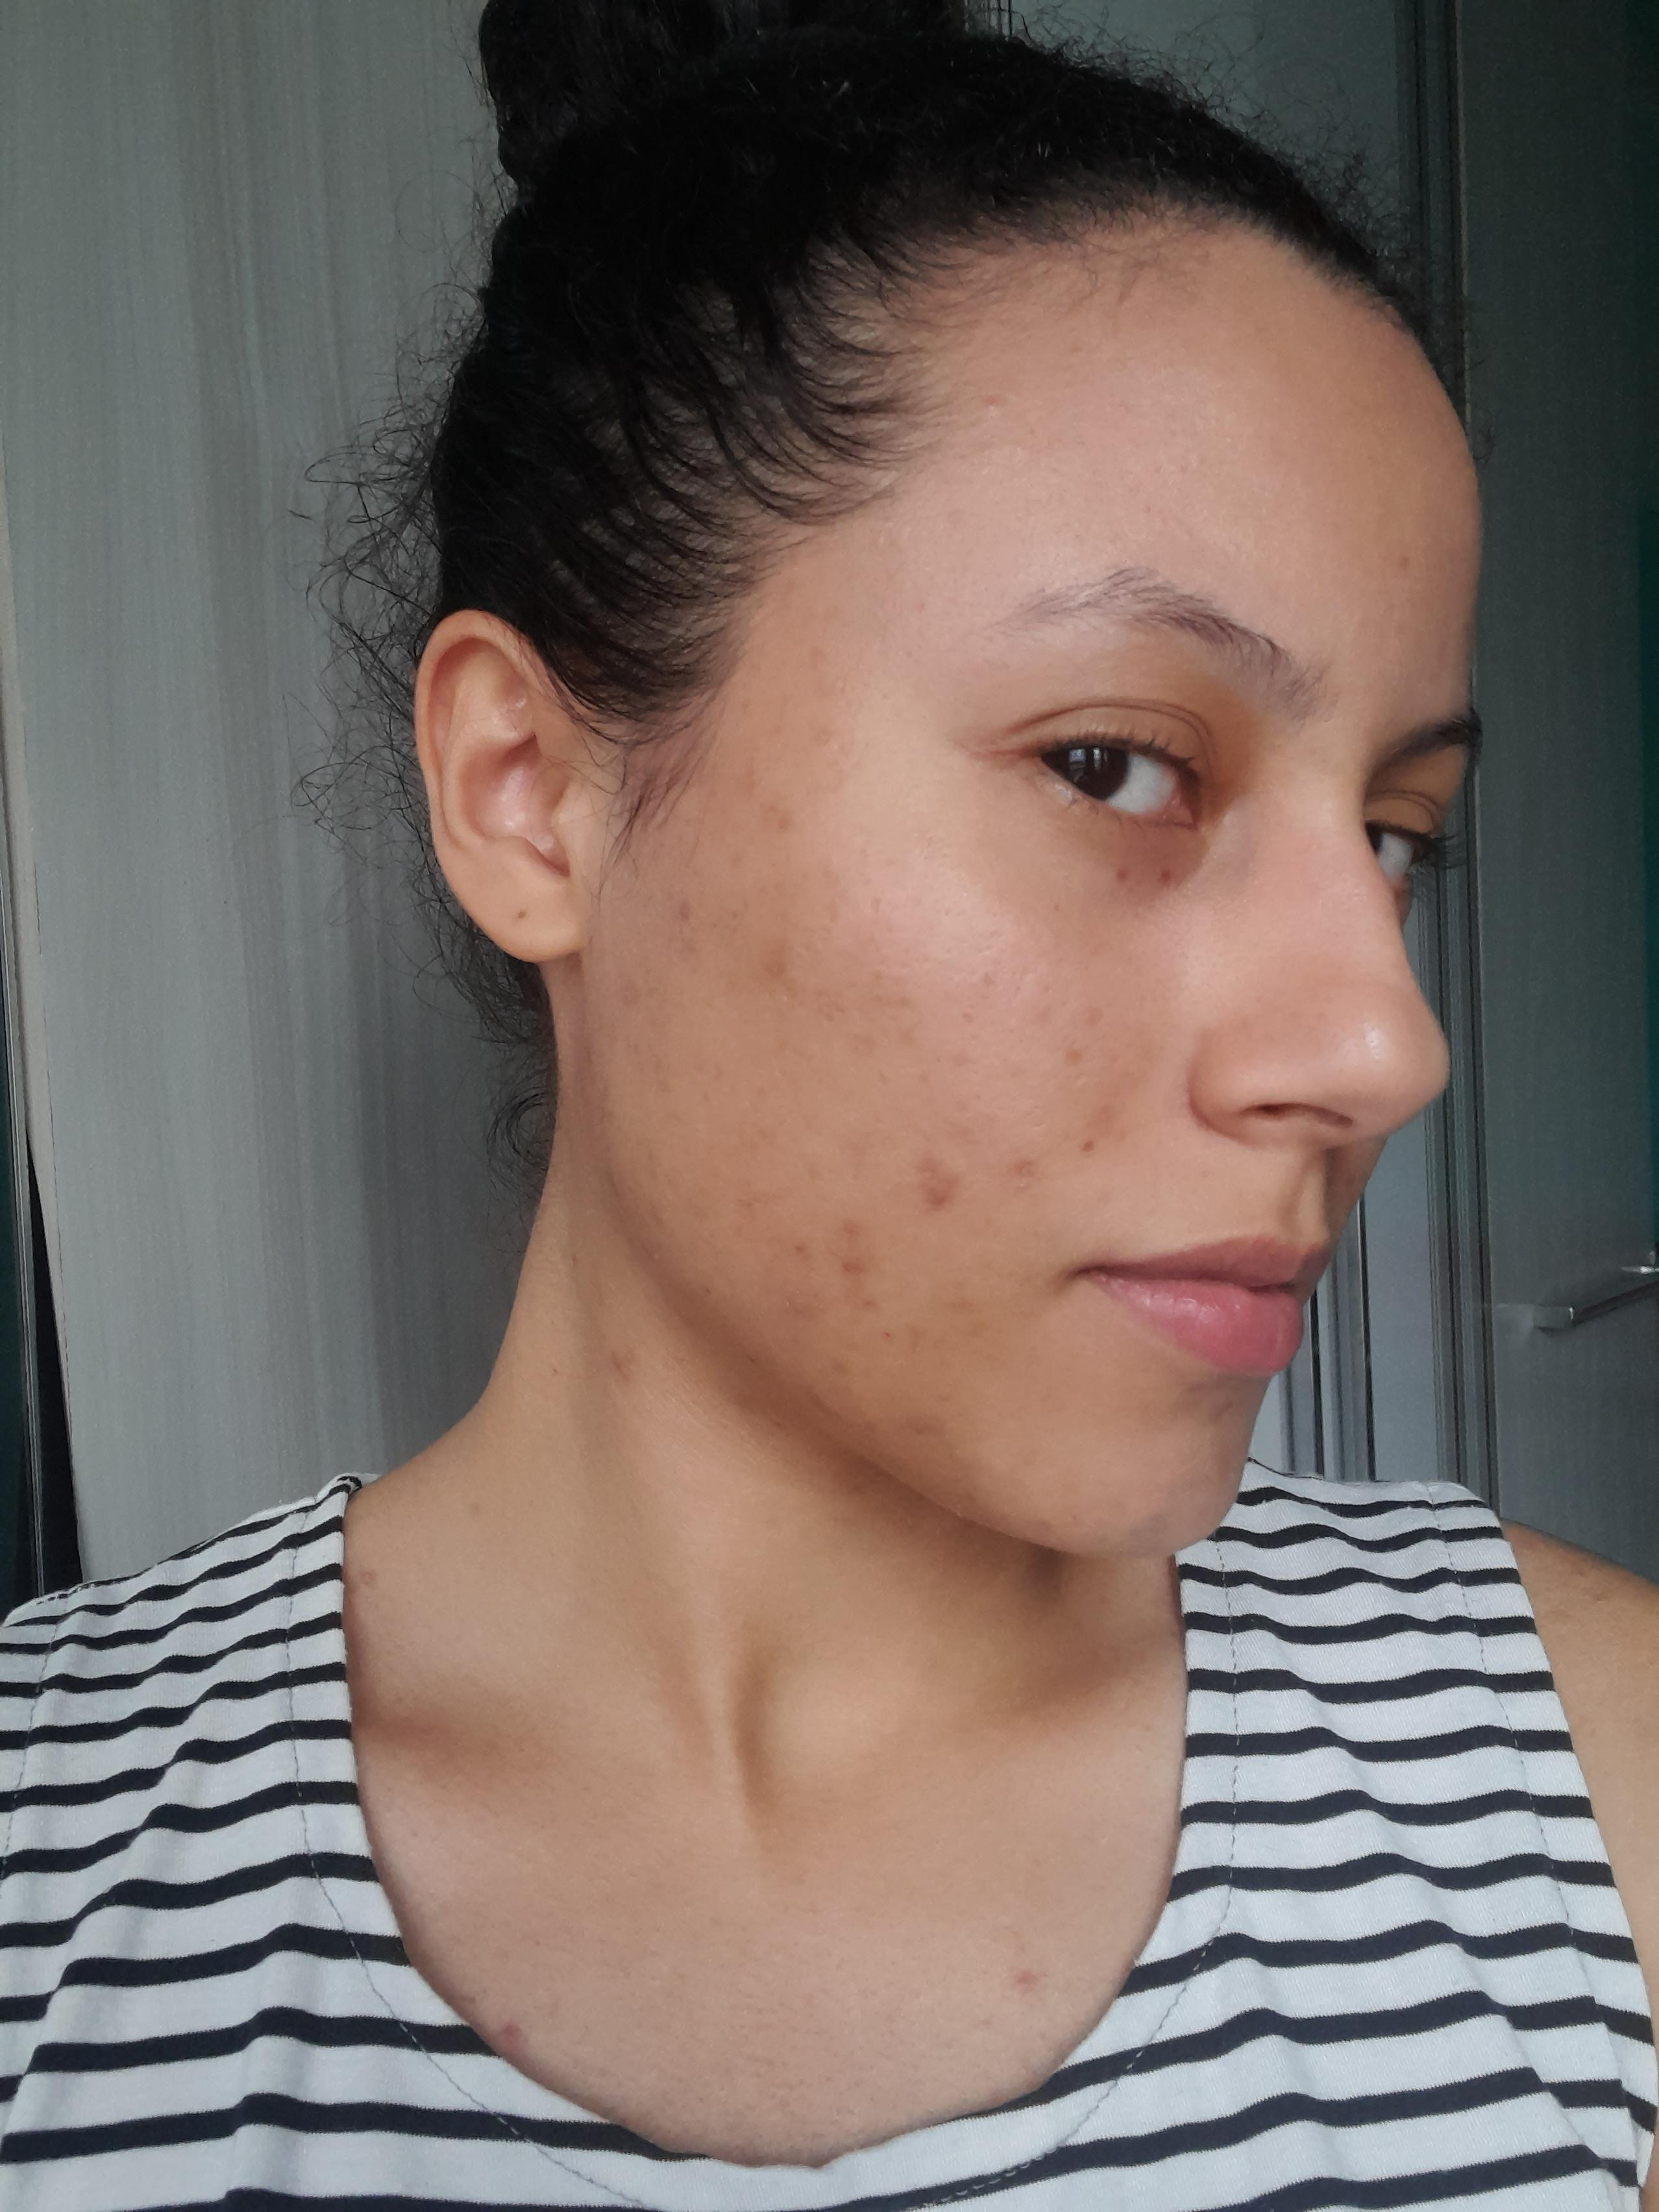Acne: (737, 761, 800, 836), (913, 1150, 969, 1217), (751, 944, 803, 988), (1007, 1148, 1058, 1188), (669, 887, 702, 944), (828, 1212, 884, 1245), (1176, 432, 1216, 475), (1148, 496, 1190, 536), (610, 975, 657, 1008), (950, 1292, 976, 1352), (807, 728, 852, 759), (981, 387, 1018, 425), (1068, 1132, 1110, 1163), (899, 1413, 943, 1442), (723, 1191, 775, 1216), (779, 1233, 814, 1264), (835, 1252, 875, 1278), (772, 1296, 805, 1322), (931, 1383, 964, 1409), (1063, 1028, 1091, 1057), (852, 1289, 882, 1313), (875, 1325, 903, 1350)
Englarged-Pores: (950, 907, 1060, 1008), (943, 1055, 1058, 1132)
